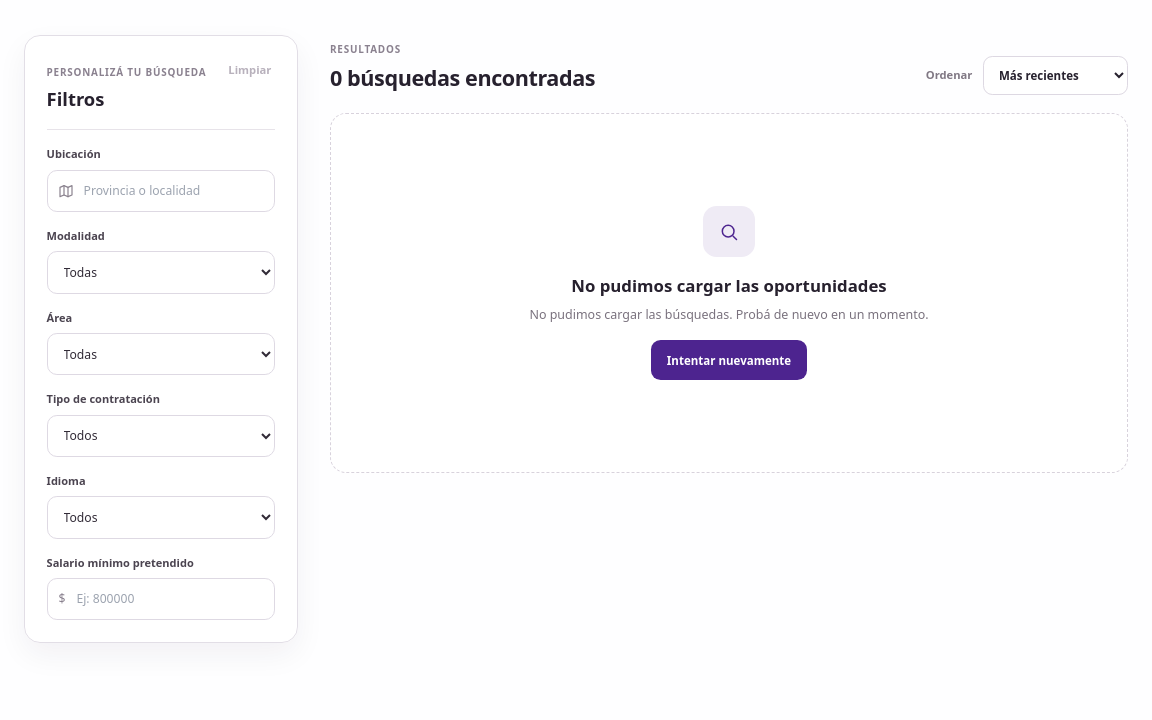
Scenario: Busquedas › ofrece reintentar cuando la carga falla
This screenshot has width=1152, height=720.
(page scrolled)
Expected: the heading "No pudimos cargar las oportunidades" is shown, [571, 273, 887, 298]
Step 1. Click the button "Intentar nuevamente" → [729, 360], box [651, 340, 807, 380]
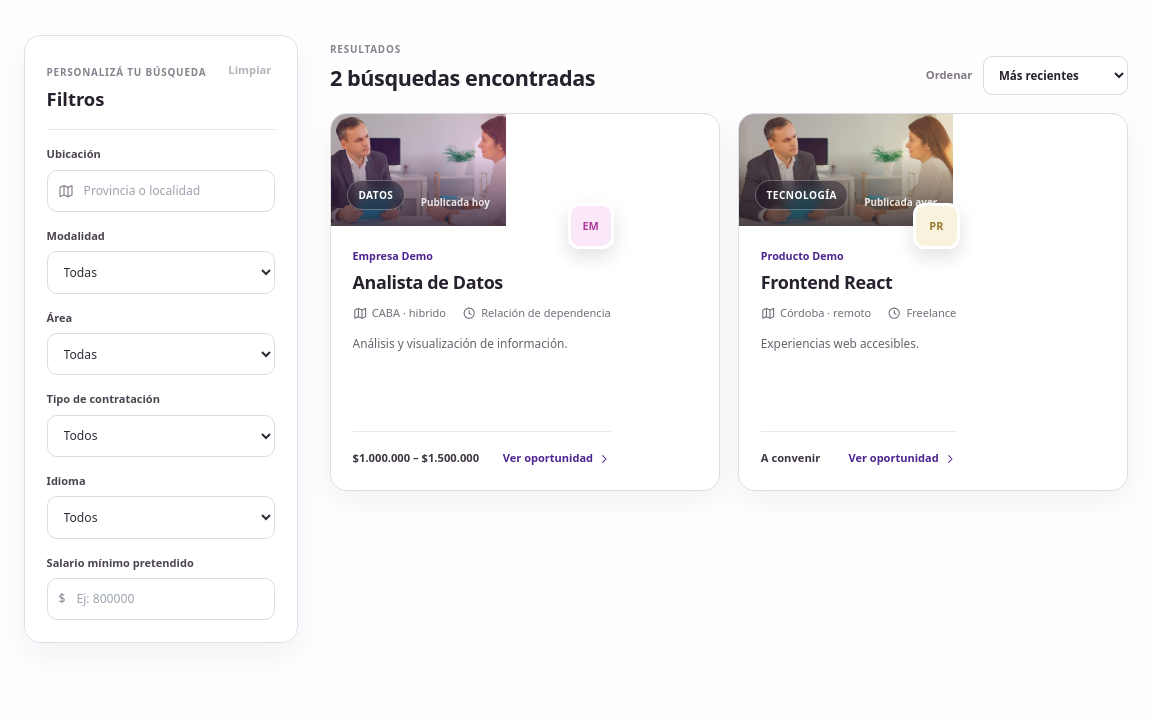
Now the heading "Analista de Datos" is shown, box [353, 270, 503, 294]
